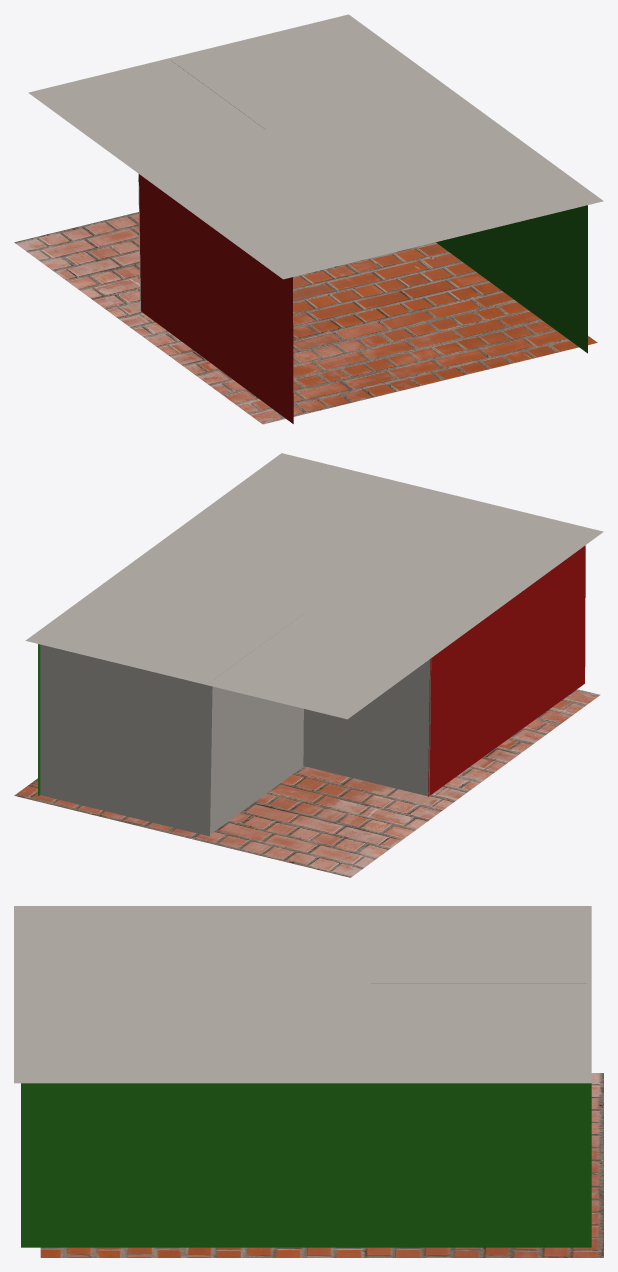
3 views of the same model, one above another, from view 1: azimuth 30°, elevation 25°; view 2: azimuth 150°, elevation 25°; view 3: azimuth 270°, elevation 25° (orthographic). The views are drawn at different scales.
Parts seen in each view (by area): view 1: ceiling, pPlane1, leftWall, rightWall; view 2: ceiling, pasted__backWall group, leftWall, pPlane1, backWall, backWall3; view 3: ceiling, rightWall, pPlane1.
Boxes of the visible parts, bbox=[...] form: ceiling: bbox=[28, 14, 603, 279]; pPlane1: bbox=[14, 212, 597, 424]; leftWall: bbox=[138, 174, 293, 423]; rightWall: bbox=[436, 205, 587, 353]; ceiling: bbox=[25, 453, 603, 719]; pasted__backWall group: bbox=[40, 644, 212, 836]; leftWall: bbox=[428, 545, 585, 796]; pPlane1: bbox=[14, 689, 600, 877]; backWall: bbox=[303, 658, 431, 796]; backWall3: bbox=[209, 614, 303, 834]; ceiling: bbox=[14, 906, 591, 1083]; rightWall: bbox=[21, 1083, 591, 1247]; pPlane1: bbox=[40, 1073, 603, 1257].
Bounding box in the file's own units: 4.6 × 2.03 × 6.2.
Materials: 7 (1 with a texture image).
